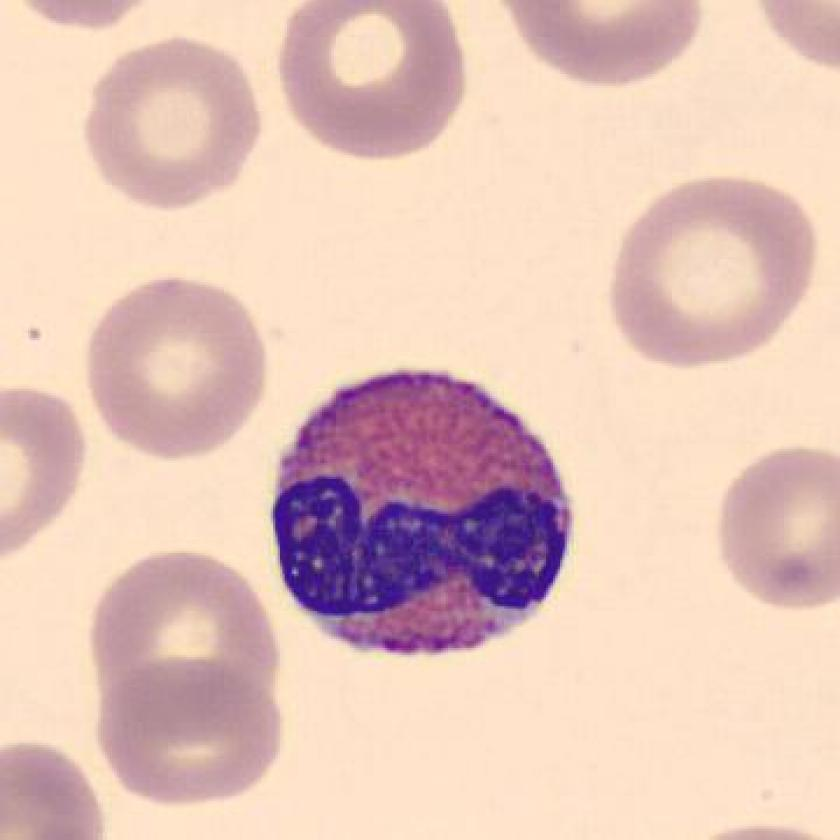eosinophil: (251, 357, 589, 679)
